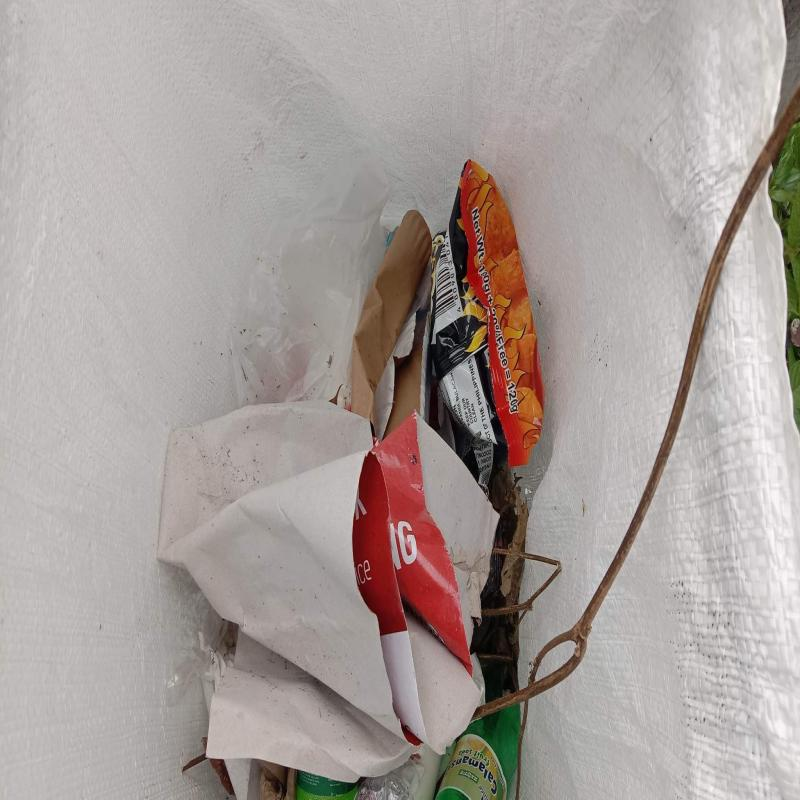cardboard: (345, 210, 432, 436)
food wrapper: (421, 160, 546, 490)
paper: (157, 402, 499, 784)
plastic bottle: (434, 704, 521, 800)
